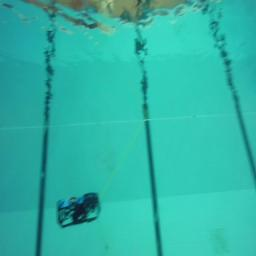front: (56, 192, 101, 228)
